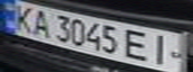0: (66, 17, 87, 47)
3: (48, 12, 72, 44)
4: (84, 20, 103, 53)
5: (100, 24, 124, 56)
A: (27, 8, 54, 38)
E: (121, 28, 154, 63)
I: (145, 32, 178, 68)
K: (6, 2, 39, 33)
